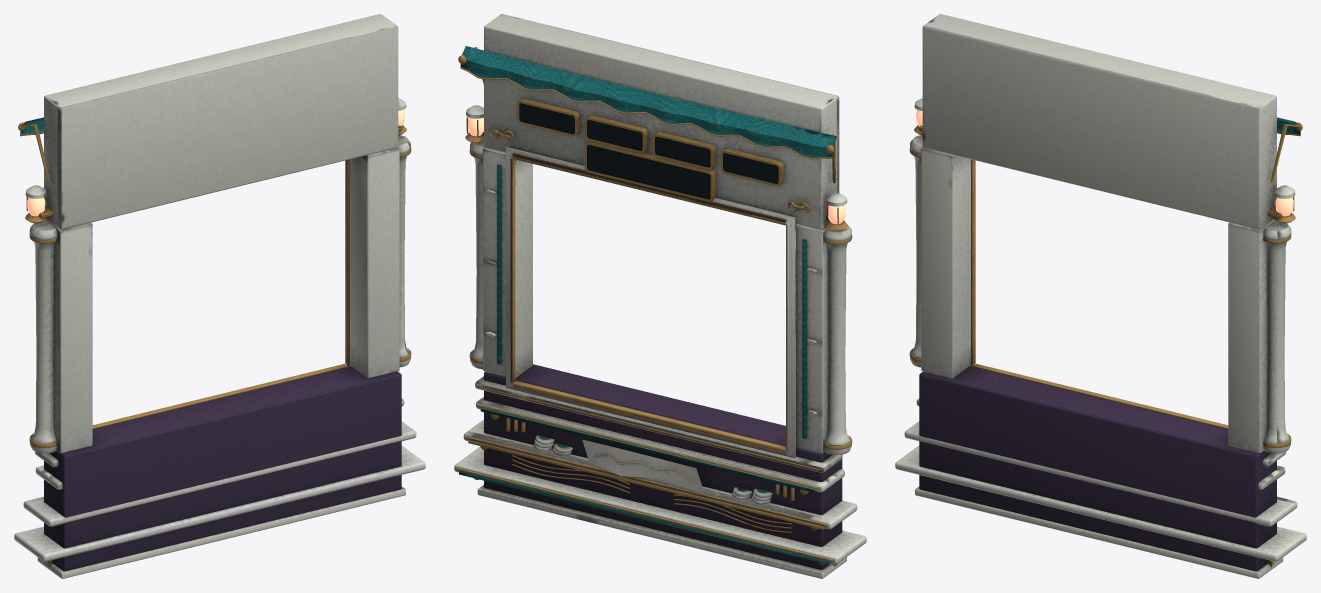
The picture shows the model from 3 angles, left to right: view 1: azimuth 30°, elevation 25°; view 2: azimuth 150°, elevation 25°; view 3: azimuth 330°, elevation 25°; orthographic projection.
Parts seen in each view (by area): view 1: Ivory_ceramic, Violet_cliff, Brushed_brass; view 2: Ivory_ceramic, Violet_cliff, Brushed_brass, Teal_woven_cloth, Dark_display_enamel, Coral_lantern_glow; view 3: Ivory_ceramic, Violet_cliff, Brushed_brass.
Boxes of the visible parts, x1,y1,x2,y2 form: Ivory_ceramic: (14,14,425,578); Violet_cliff: (44,366,401,571); Brushed_brass: (18,122,411,566); Ivory_ceramic: (454,14,866,578); Violet_cliff: (484,364,842,569); Brushed_brass: (455,47,852,565); Teal_woven_cloth: (459,46,837,564); Dark_display_enamel: (519,103,778,199); Coral_lantern_glow: (468,117,845,224); Ivory_ceramic: (895,14,1306,578); Violet_cliff: (919,366,1276,571); Brushed_brass: (909,122,1302,566).
Size of the model in its own units: 9.6 by 11.2 by 1.41.
Materials: 6 (5 with a texture image).
